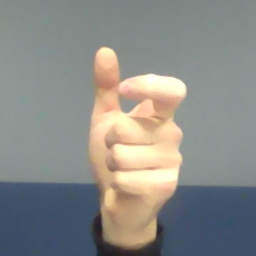G: (86, 43, 190, 215)
